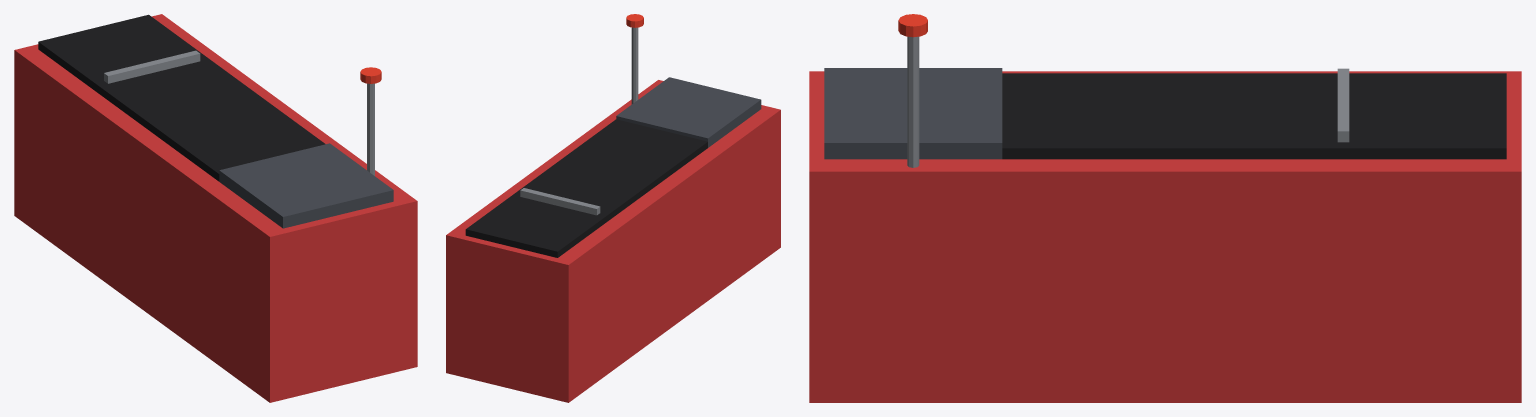
Rendered from checkout.glb.
3 views of the same model, side by side, from view 1: azimuth 30°, elevation 25°; view 2: azimuth 150°, elevation 25°; view 3: azimuth 270°, elevation 25° (orthographic). The views are drawn at different scales.
Visible parts, largest first — view 1: body_checkout_body, belt_checkout_belt, stand_checkout_stand, divider_checkout_bar, post_checkout_post; view 2: body_checkout_body, belt_checkout_belt, stand_checkout_stand, divider_checkout_bar, post_checkout_post; view 3: body_checkout_body, belt_checkout_belt, stand_checkout_stand, post_checkout_post, divider_checkout_bar, button_price_button.
Part boxes in pixels (left/top/right/bottom): body_checkout_body: left=14, top=14, right=417, bottom=402; belt_checkout_belt: left=38, top=14, right=325, bottom=181; stand_checkout_stand: left=219, top=143, right=393, bottom=228; divider_checkout_bar: left=104, top=50, right=200, bottom=83; post_checkout_post: left=367, top=83, right=374, bottom=175; body_checkout_body: left=446, top=80, right=780, bottom=402; belt_checkout_belt: left=465, top=119, right=707, bottom=257; stand_checkout_stand: left=616, top=77, right=761, bottom=147; divider_checkout_bar: left=520, top=188, right=600, bottom=215; post_checkout_post: left=631, top=27, right=638, bottom=104; body_checkout_body: left=809, top=71, right=1521, bottom=402; belt_checkout_belt: left=1002, top=73, right=1506, bottom=159; stand_checkout_stand: left=824, top=68, right=1002, bottom=159; post_checkout_post: left=907, top=36, right=919, bottom=167; divider_checkout_bar: left=1337, top=68, right=1349, bottom=142; button_price_button: left=898, top=14, right=927, bottom=37.
Bounding box in the file's own units: 0.8 × 1.4 × 2.4.
